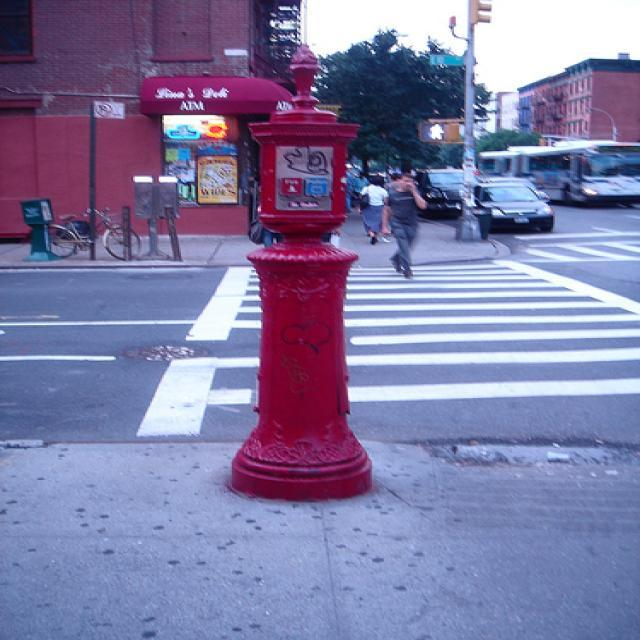fire_hydrant: (228, 43, 374, 500)
